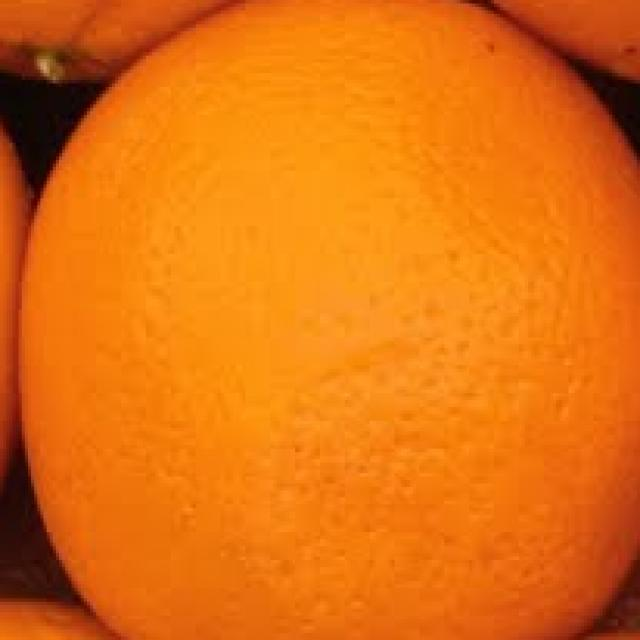Lime: (3, 3, 640, 640)
